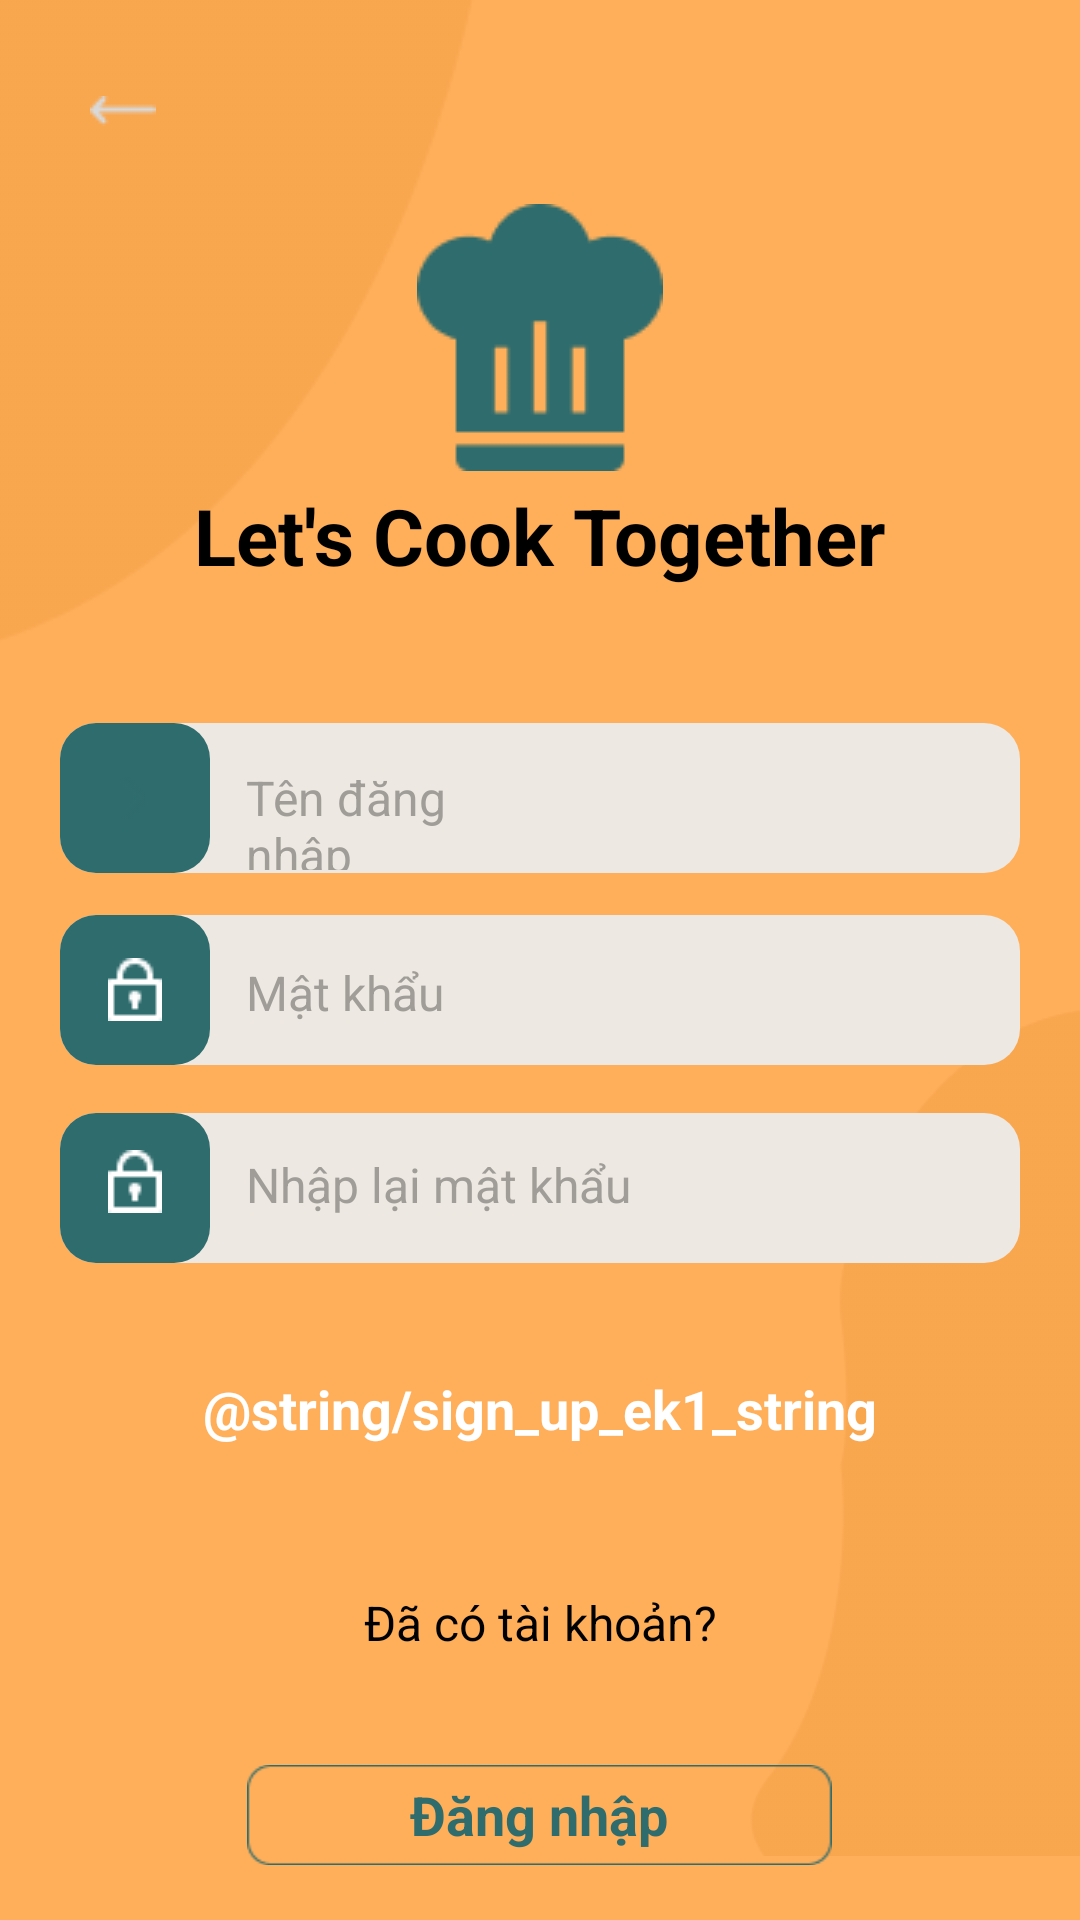

Locate icon controls on the screen. Image size 1080 x 1920, boxes as (x1, y1, x2, y2).
lock: (108, 958, 162, 1021), (108, 1150, 162, 1213)
